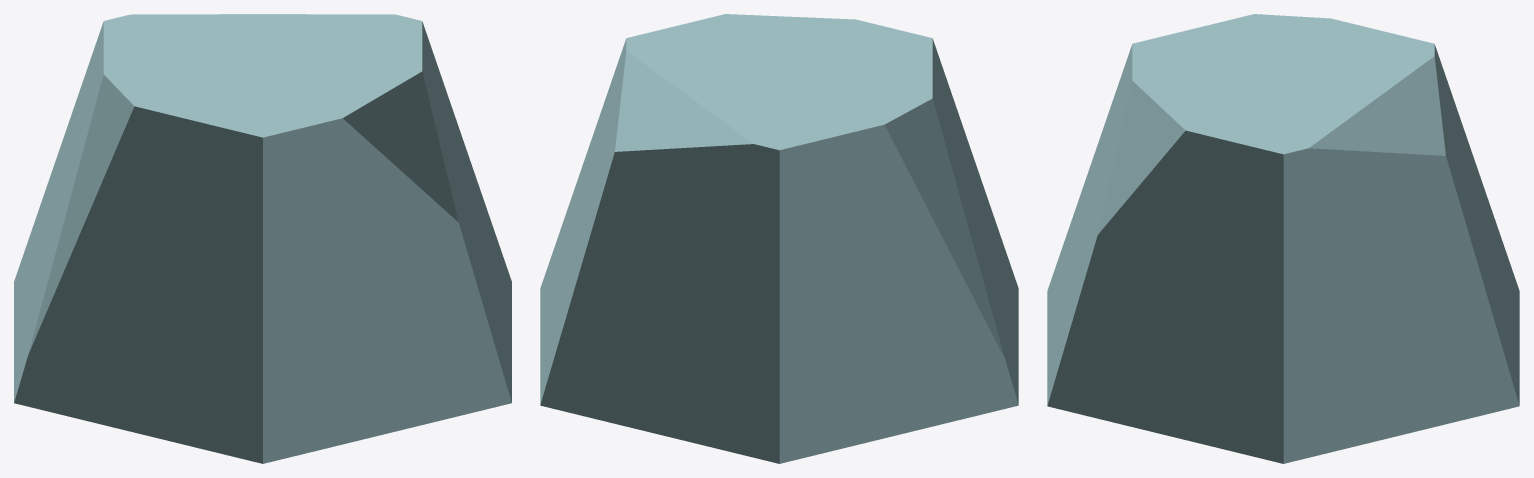
The model's file is stone_small4.obj.
3 views of the same model, side by side, from view 1: azimuth 30°, elevation 25°; view 2: azimuth 150°, elevation 25°; view 3: azimuth 270°, elevation 25° (orthographic). The views are drawn at different scales.
Parts seen in each view (by area): view 1: stone_small4; view 2: stone_small4; view 3: stone_small4.
Boxes of the visible parts, x1=… form: stone_small4: x1=14, y1=14, x2=511, y2=463; stone_small4: x1=540, y1=14, x2=1018, y2=463; stone_small4: x1=1047, y1=14, x2=1519, y2=463.
Size of the model in its own units: 4.26 by 2.31 by 3.69.
